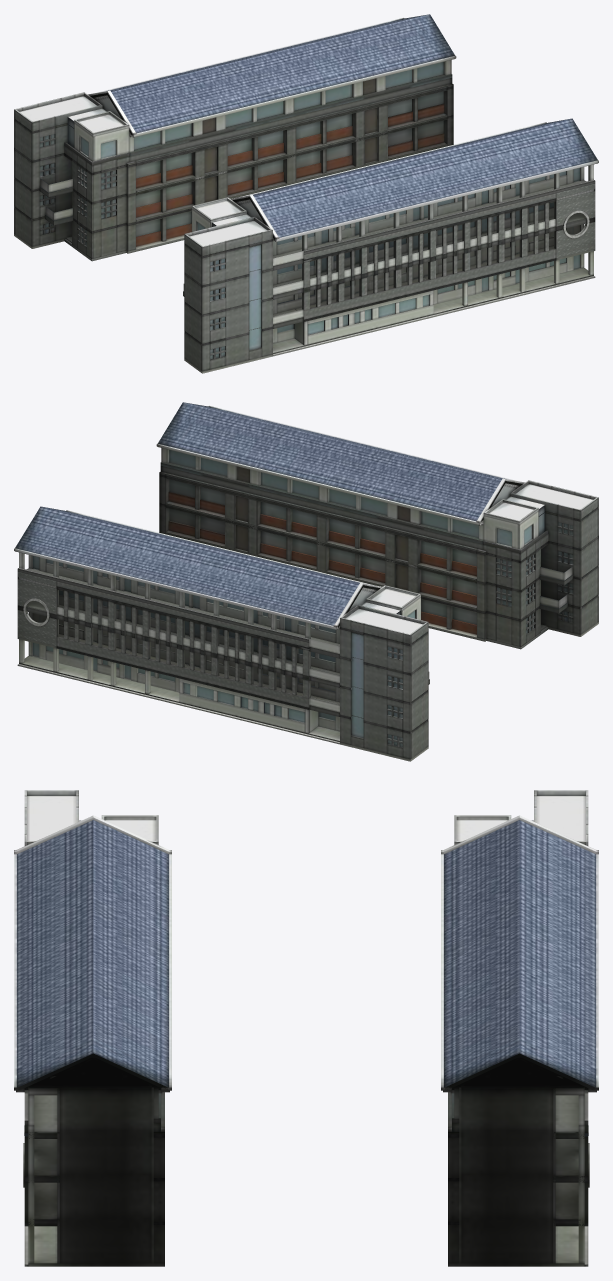
The model's file is office_A2Texture.glb.
The picture shows the model from 3 angles, top to bottom: view 1: azimuth 30°, elevation 25°; view 2: azimuth 150°, elevation 25°; view 3: azimuth 270°, elevation 25°; orthographic projection. The views are drawn at different scales.
Parts seen in each view (by area): view 1: 行政楼2; view 2: 行政楼2; view 3: 行政楼2.
Part boxes in pixels (x1,y1,x2,y2): 行政楼2: (14, 14, 598, 373); 行政楼2: (14, 402, 598, 761); 行政楼2: (14, 790, 598, 1266).
Size of the model in its own units: 54.94 by 19.26 by 47.32.
Materials: 1 (1 with a texture image).
